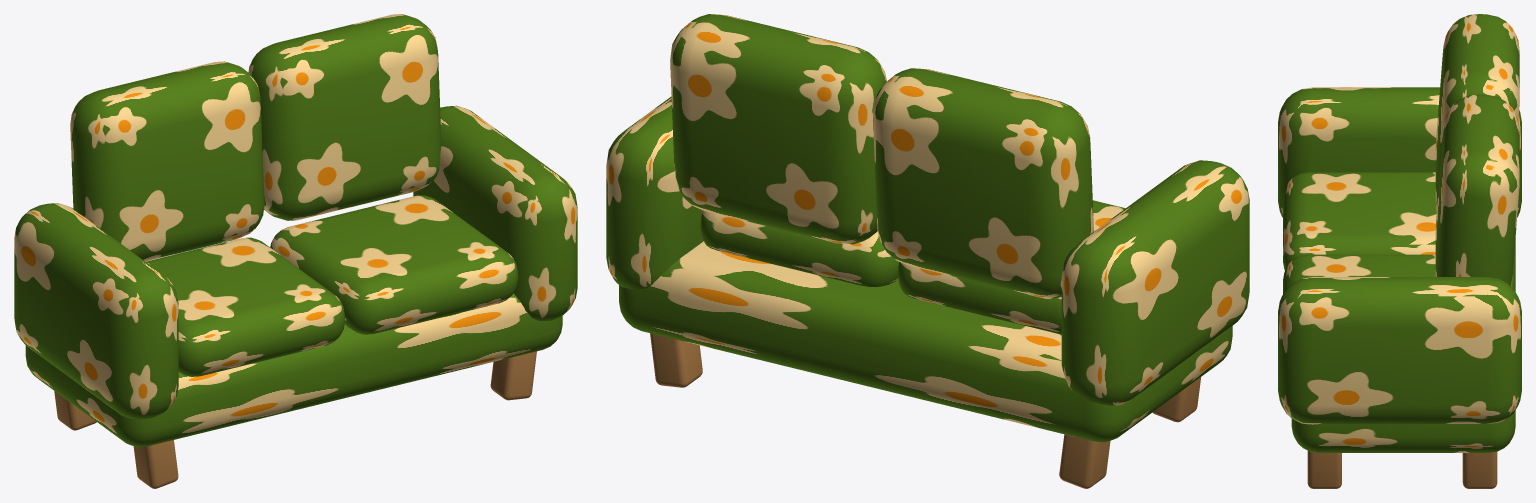
File: easy_couch_04.fbx
The picture shows the model from 3 angles, left to right: view 1: azimuth 30°, elevation 25°; view 2: azimuth 150°, elevation 25°; view 3: azimuth 270°, elevation 25°; orthographic projection. The views are drawn at different scales.
Parts seen in each view (by area): view 1: EC04_LOD0; view 2: EC04_LOD0; view 3: EC04_LOD0.
Part boxes in pixels (x1,y1,x2,y2): EC04_LOD0: (14, 14, 577, 488); EC04_LOD0: (606, 14, 1249, 488); EC04_LOD0: (1278, 14, 1521, 488).
Size of what is drawn, in the model's own units: 2.12 by 1.42 by 0.99.
Materials: 2 (1 with a texture image).
